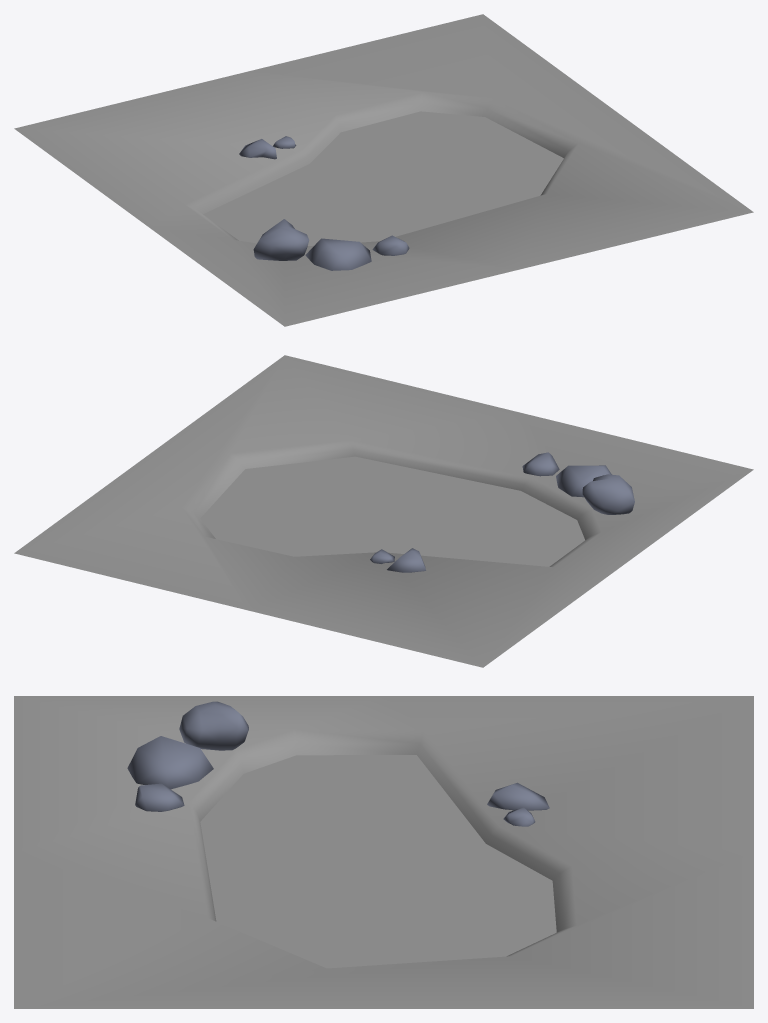
Rendered from Lake.FBX.
3 views of the same model, one above another, from view 1: azimuth 30°, elevation 25°; view 2: azimuth 150°, elevation 25°; view 3: azimuth 270°, elevation 25° (orthographic). The views are drawn at different scales.
Visible parts, largest first — view 1: GeoSphere002; view 2: GeoSphere002; view 3: GeoSphere002.
Boxes of the visible parts, x1=… form: GeoSphere002: x1=14, y1=14, x2=753, y2=326; GeoSphere002: x1=14, y1=355, x2=753, y2=667; GeoSphere002: x1=14, y1=696, x2=753, y2=1008.
Bounding box in the file's own units: 321 × 29.34 × 321.
Materials: 2 (1 with a texture image).
